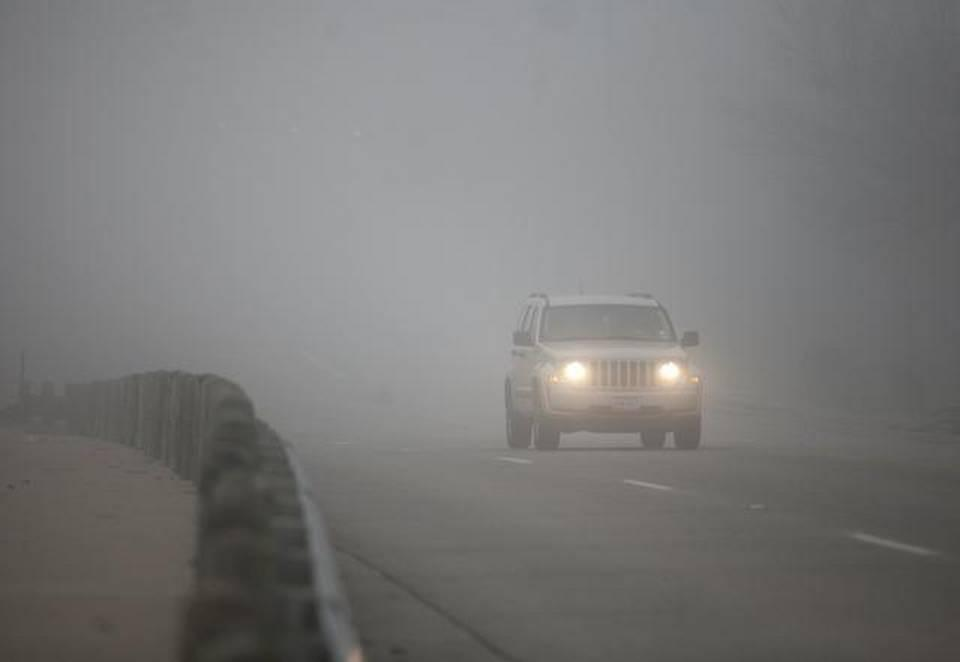car: (504, 288, 707, 451)
